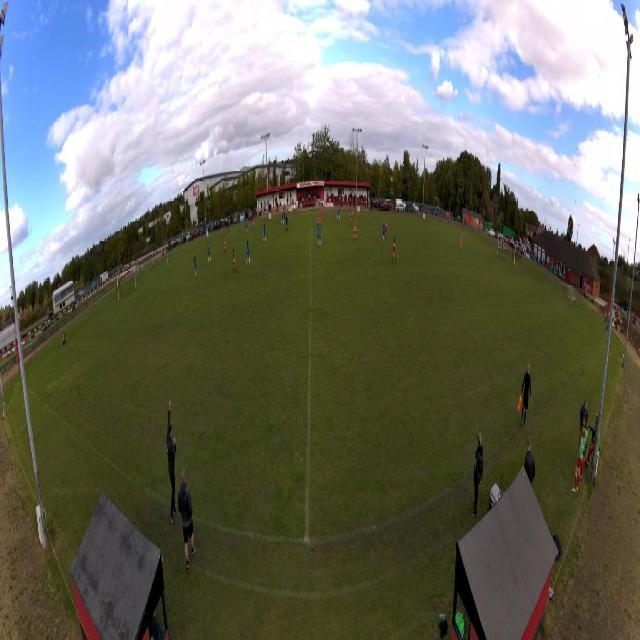ball: (249, 229, 250, 233)
player: (391, 236, 397, 265), (246, 240, 252, 267), (232, 248, 238, 275), (380, 220, 386, 242), (353, 219, 358, 244), (193, 254, 197, 280), (319, 224, 323, 248), (384, 218, 388, 242), (208, 243, 212, 264), (317, 222, 320, 249), (263, 224, 267, 244), (349, 207, 353, 226), (223, 235, 227, 254), (281, 210, 285, 228), (337, 205, 341, 222), (316, 210, 319, 229), (460, 233, 463, 252), (166, 255, 169, 274), (319, 209, 322, 227), (285, 215, 288, 233), (283, 209, 286, 226), (245, 217, 248, 234), (322, 207, 325, 223), (252, 217, 255, 233), (287, 209, 290, 223)
